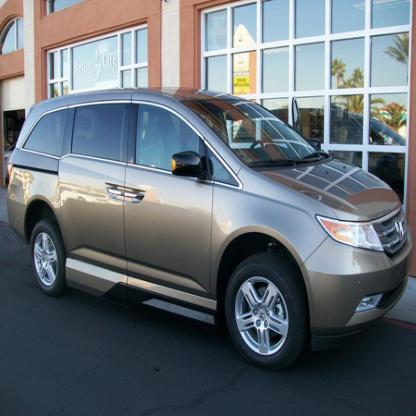Vehicle: (6, 84, 416, 378)
